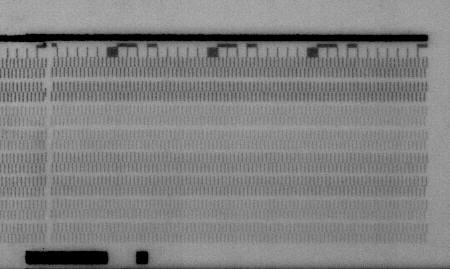Oblique printing: (39, 82, 51, 97)
